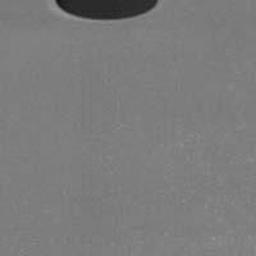Punching: (54, 0, 157, 22)
